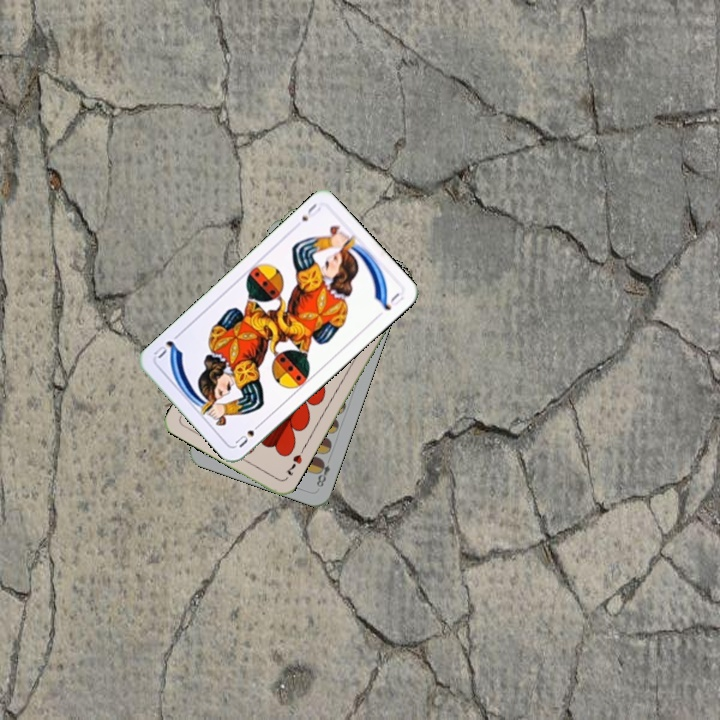E8: (312, 452, 334, 490)
H7: (281, 450, 305, 478)
SU: (231, 418, 265, 450), (297, 199, 324, 224)
